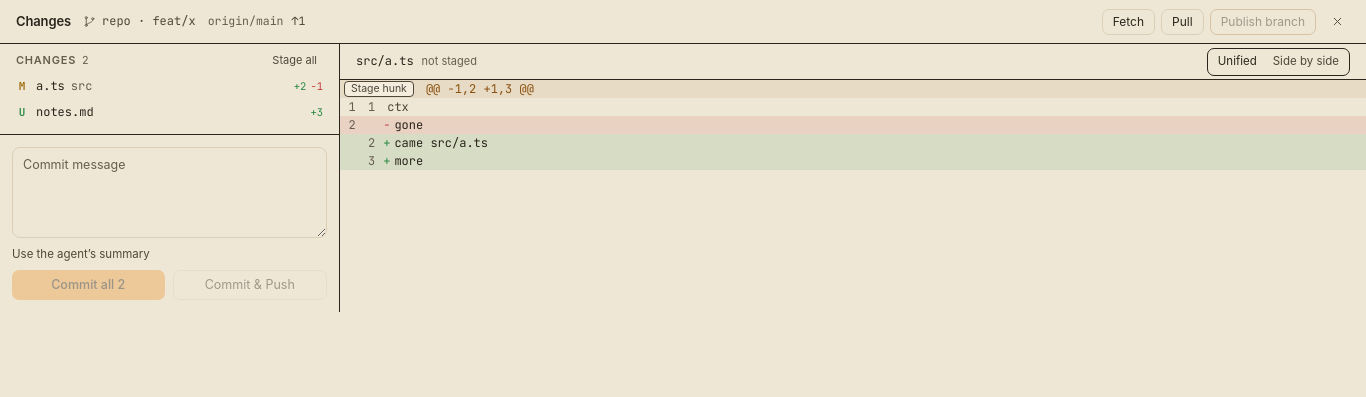
it: ChangesView › says a push was refused for credentials, and that the commit stands
Check: the text "came src/a.ts" is shown, box [394,134,504,152]
Type "x" into the text box labelled "Commit message" at coordinates (170, 192), box [12,147,327,238]
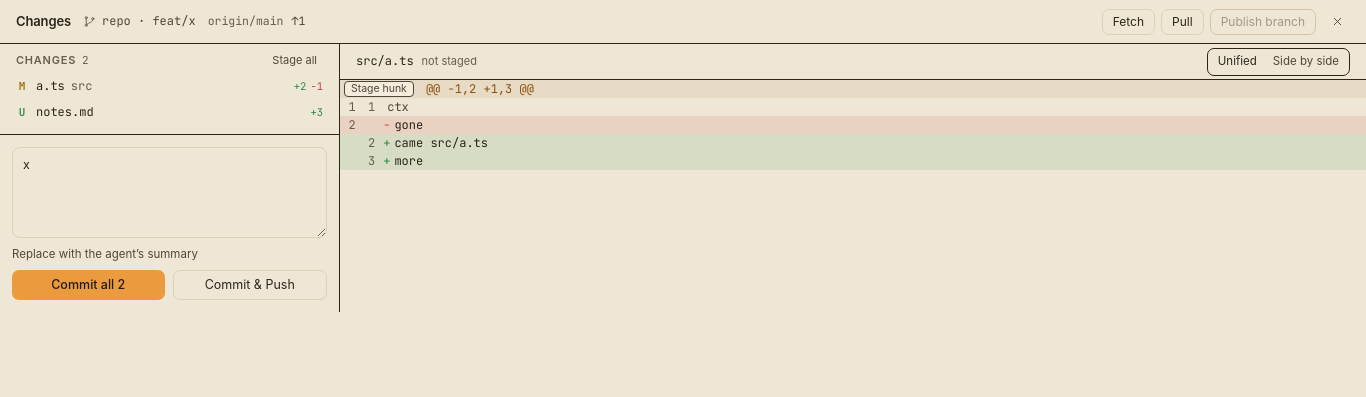
Click the button "Commit & Push" at coordinates (250, 285), box [172,270,327,300]
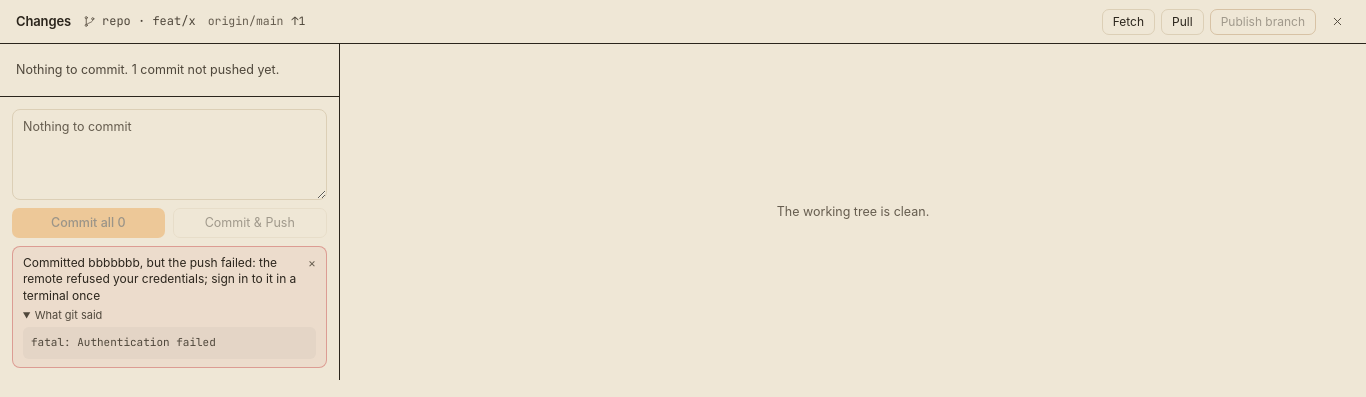
Check: the text "Committed bbbbbbb, but the push failed: the remote refused your credentials" is shown, box [23,255,296,303]
Check: the text "fatal: Authentication failed" is shown, box [23,327,316,358]
